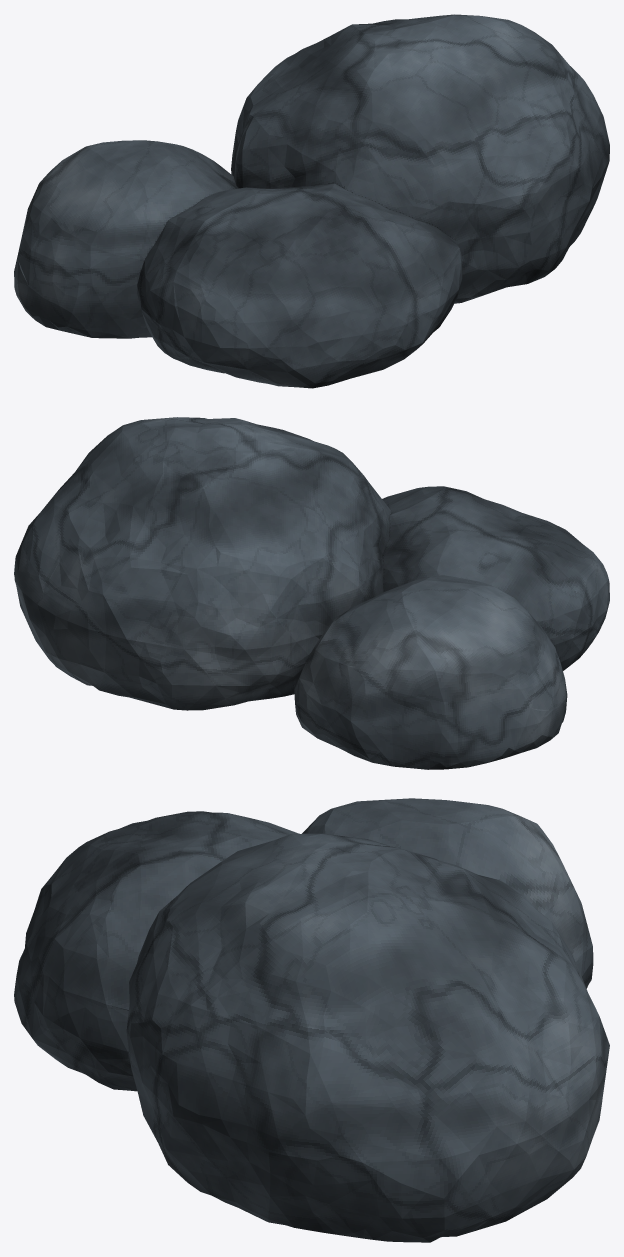
Rendered from snow_boulders_b.glb.
The picture shows the model from 3 angles, top to bottom: view 1: azimuth 30°, elevation 25°; view 2: azimuth 150°, elevation 25°; view 3: azimuth 270°, elevation 25°; orthographic projection. The views are drawn at different scales.
Parts seen in each view (by area): view 1: snow_boulders_b; view 2: snow_boulders_b; view 3: snow_boulders_b.
Boxes of the visible parts, left/top/right/bottom form: snow_boulders_b: left=14, top=14, right=609, bottom=388; snow_boulders_b: left=14, top=417, right=609, bottom=769; snow_boulders_b: left=14, top=798, right=609, bottom=1242.
Bounding box in the file's own units: 1.37 × 0.5181 × 0.987.
1 material, 1 textured.
